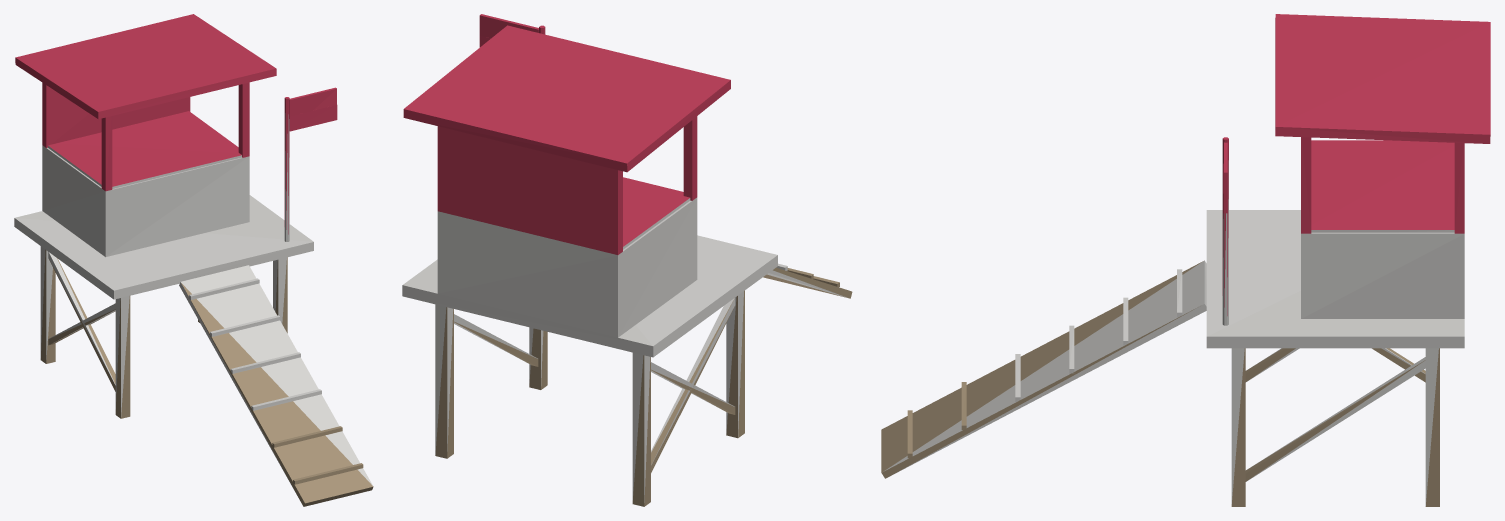
Rendered from lifeguard-tower-00.glb.
3 views of the same model, side by side, from view 1: azimuth 30°, elevation 25°; view 2: azimuth 150°, elevation 25°; view 3: azimuth 270°, elevation 25° (orthographic). The views are drawn at different scales.
Parts seen in each view (by area): view 1: lifeguard_tower_00; view 2: lifeguard_tower_00; view 3: lifeguard_tower_00.
Part boxes in pixels (x1,y1,x2,y2): lifeguard_tower_00: (14,14,373,506); lifeguard_tower_00: (402,14,852,506); lifeguard_tower_00: (881,14,1490,506).
Bounding box in the file's own units: 2.69 × 3.33 × 4.75.
